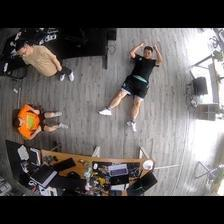fall: (96, 40, 163, 134)
normal: (13, 40, 74, 82), (13, 102, 67, 139)
